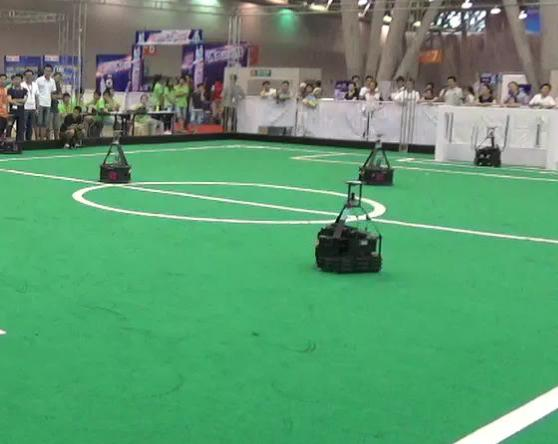robot: (307, 173, 393, 279), (352, 130, 403, 190), (91, 128, 142, 188)
